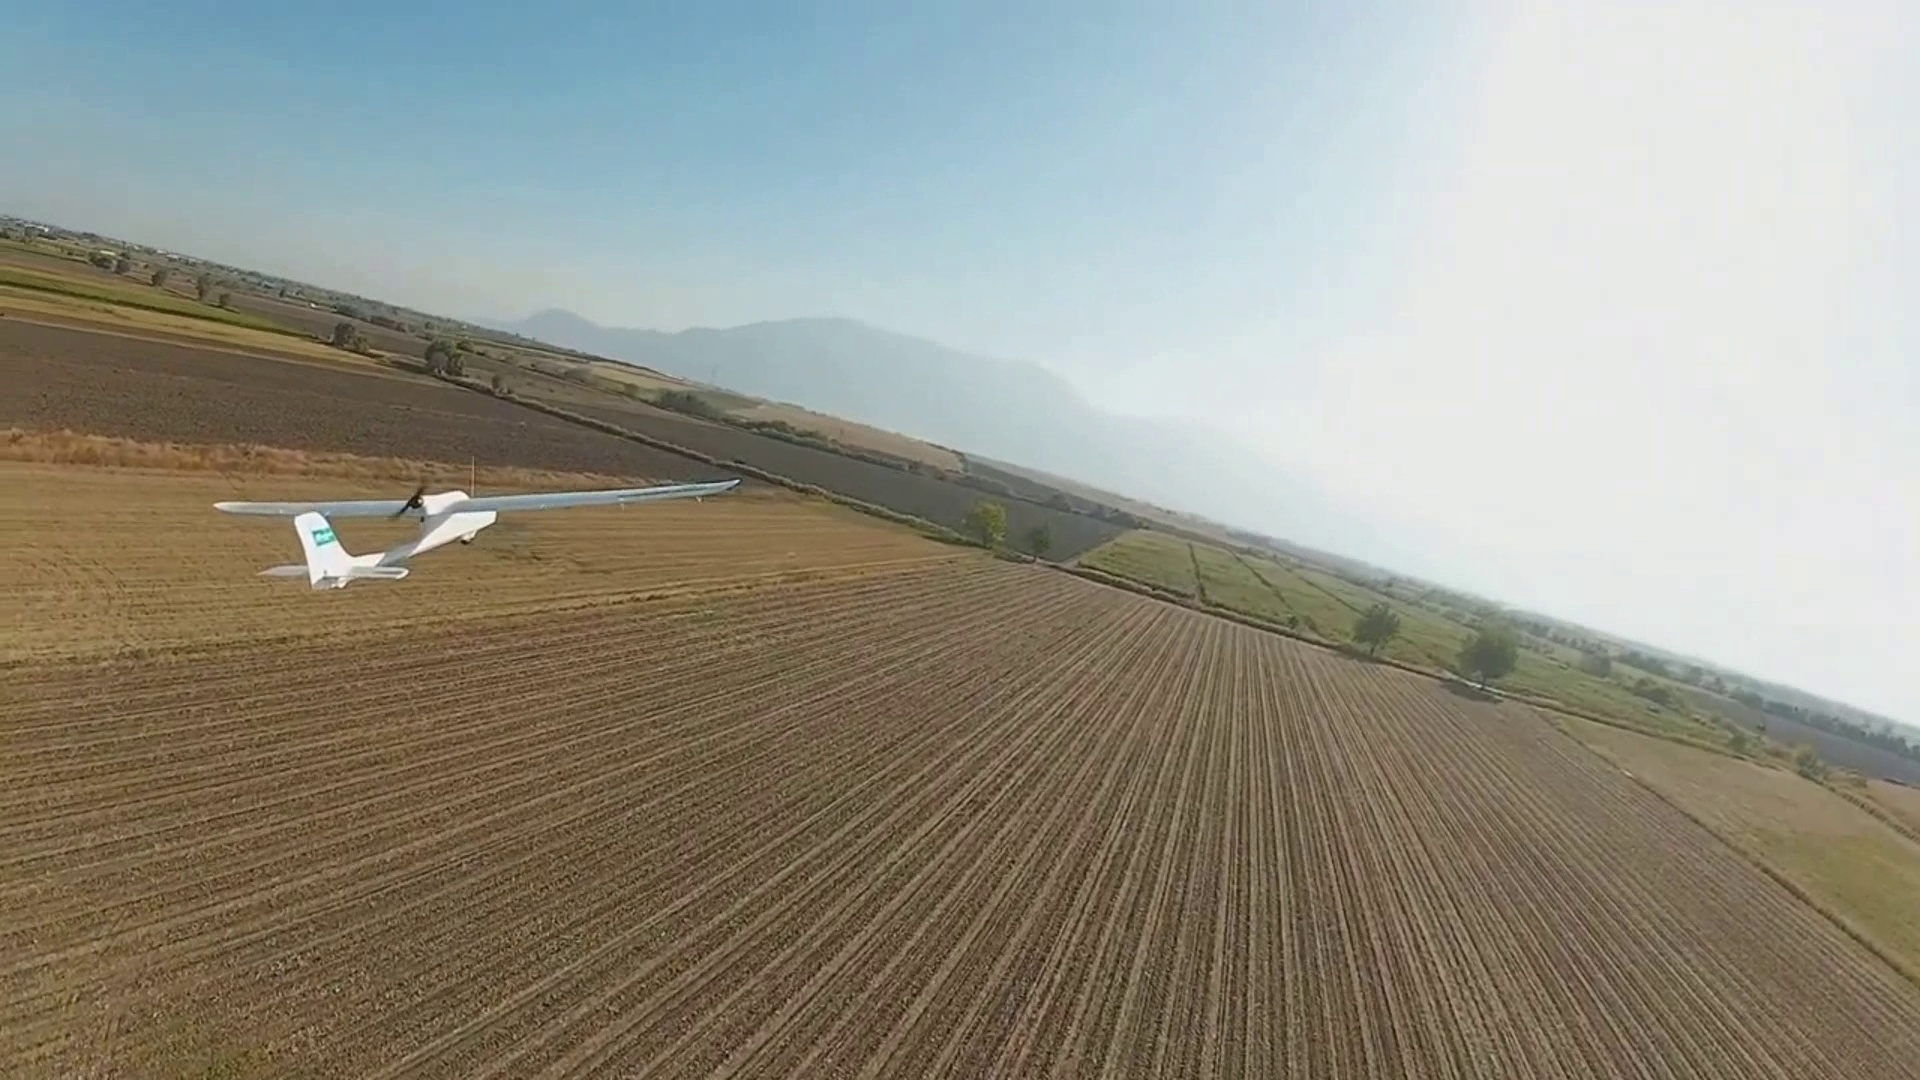airplane: (214, 473, 742, 587)
